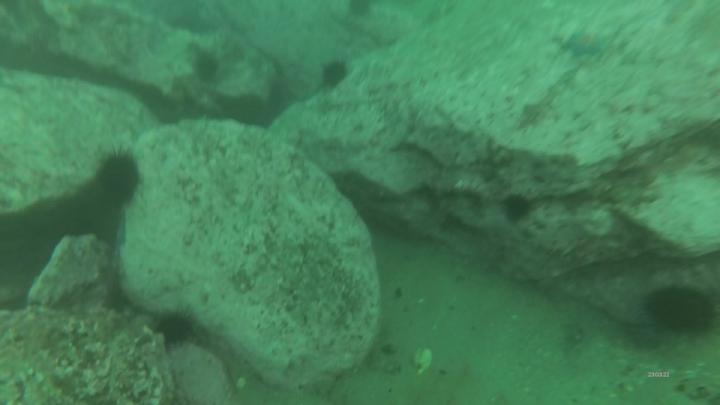echinus: (650, 286, 716, 331), (96, 156, 137, 201), (159, 315, 192, 344), (506, 194, 529, 220), (322, 61, 345, 84), (196, 56, 216, 78), (352, 3, 372, 16)
